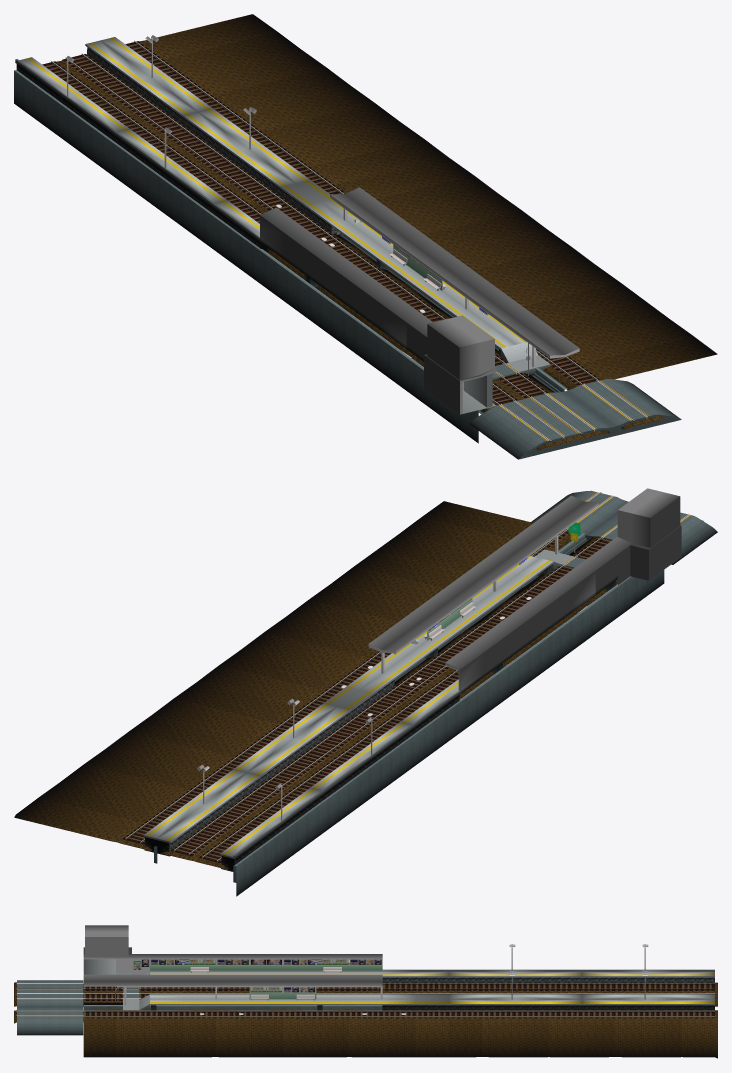
File: K_SHINOMIYA_ST.glb
The picture shows the model from 3 angles, top to bottom: view 1: azimuth 30°, elevation 25°; view 2: azimuth 150°, elevation 25°; view 3: azimuth 270°, elevation 25°; orthographic projection. The views are drawn at different scales.
Parts seen in each view (by area): view 1: rail_small, bone0-10; view 2: rail_small, bone0-10; view 3: rail_small, bone0-10.
Part boxes in pixels (x1=…): rail_small: x1=14, y1=14, x2=717, y2=459; bone0-10: x1=16, y1=47, x2=343, y2=248; rail_small: x1=14, y1=488, x2=717, y2=896; bone0-10: x1=169, y1=680, x2=459, y2=865; rail_small: x1=14, y1=925, x2=717, y2=1058; bone0-10: x1=382, y1=977, x2=714, y2=1010.
Size of the model in its own units: 76.19 by 28.12 by 265.
33 materials, 30 textured.
